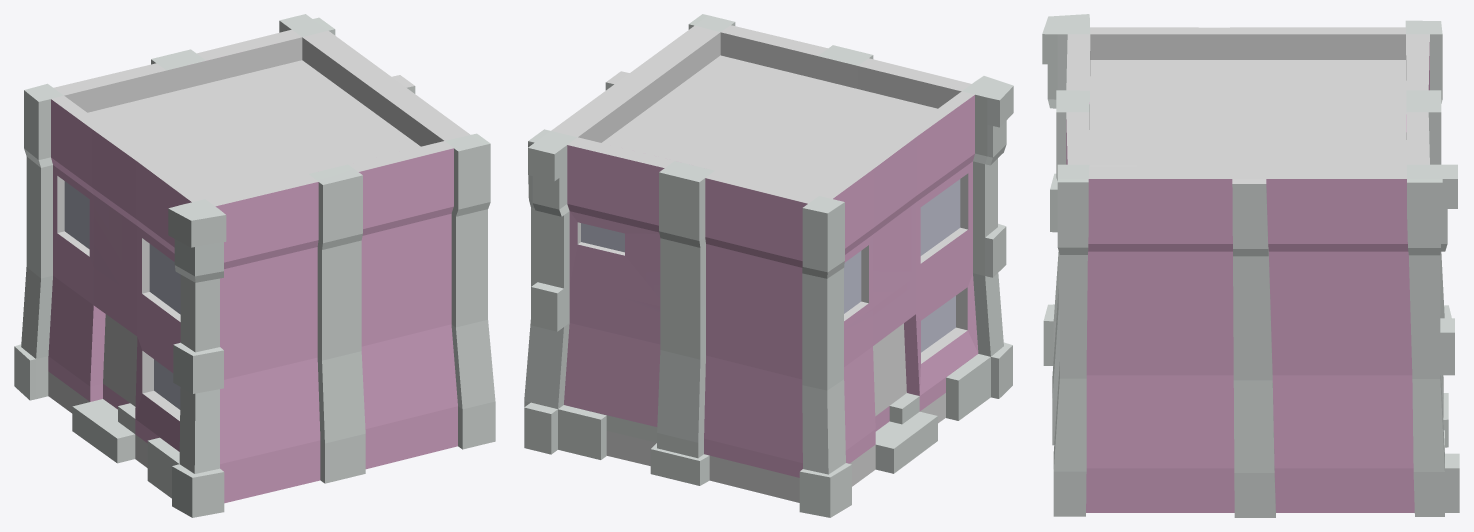
Rendered from Modelo TOON Casinha Laje 1.fbx.
The picture shows the model from 3 angles, left to right: view 1: azimuth 30°, elevation 25°; view 2: azimuth 150°, elevation 25°; view 3: azimuth 270°, elevation 25°; orthographic projection. The views are drawn at different scales.
Visible parts, largest first — view 1: Cube.001; view 2: Cube.001; view 3: Cube.001.
Part boxes in pixels (box(x1,y1,x2,y2)): Cube.001: box(14, 14, 495, 517); Cube.001: box(524, 14, 1013, 517); Cube.001: box(1042, 14, 1459, 517).
Size of the model in its own units: 219 by 198 by 225.
